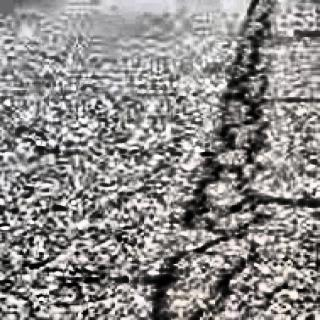alligator-crack: (148, 0, 282, 320)
